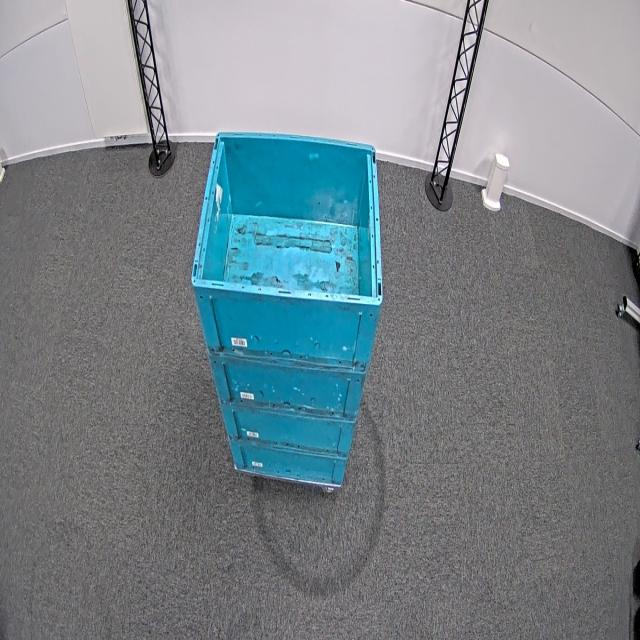RollB4: (190, 129, 385, 307)
